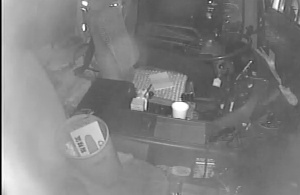cup: (169, 101, 192, 120)
